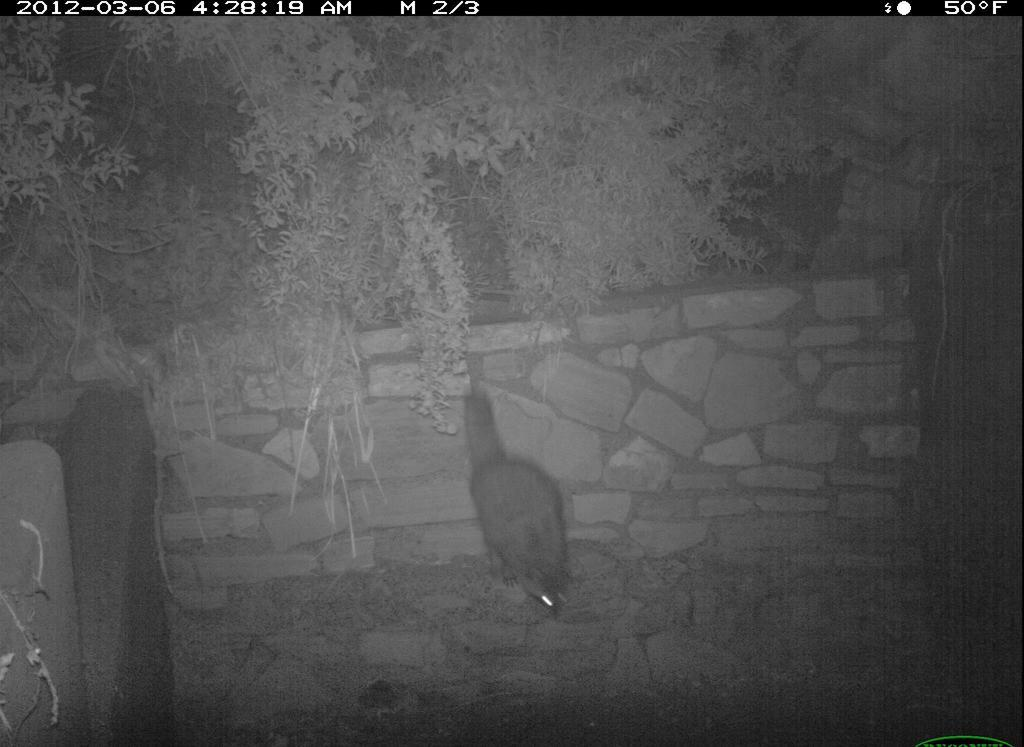raccoon: (452, 386, 596, 624)
